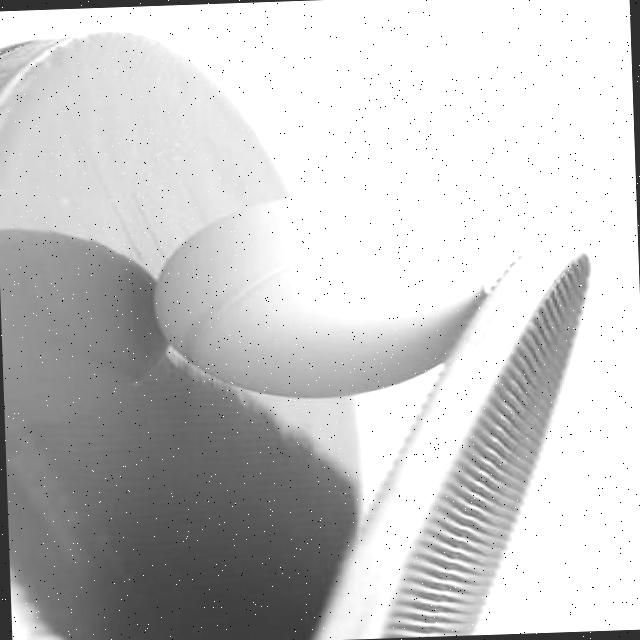ping-pong-ball: (144, 190, 494, 408)
